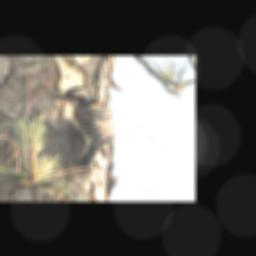Woodpecker: (51, 86, 114, 170)
